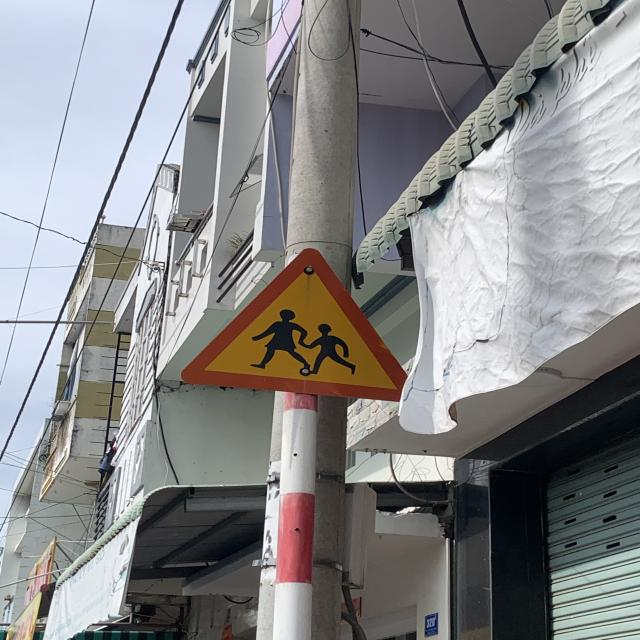Vong_Xuyen: (181, 246, 401, 398)
